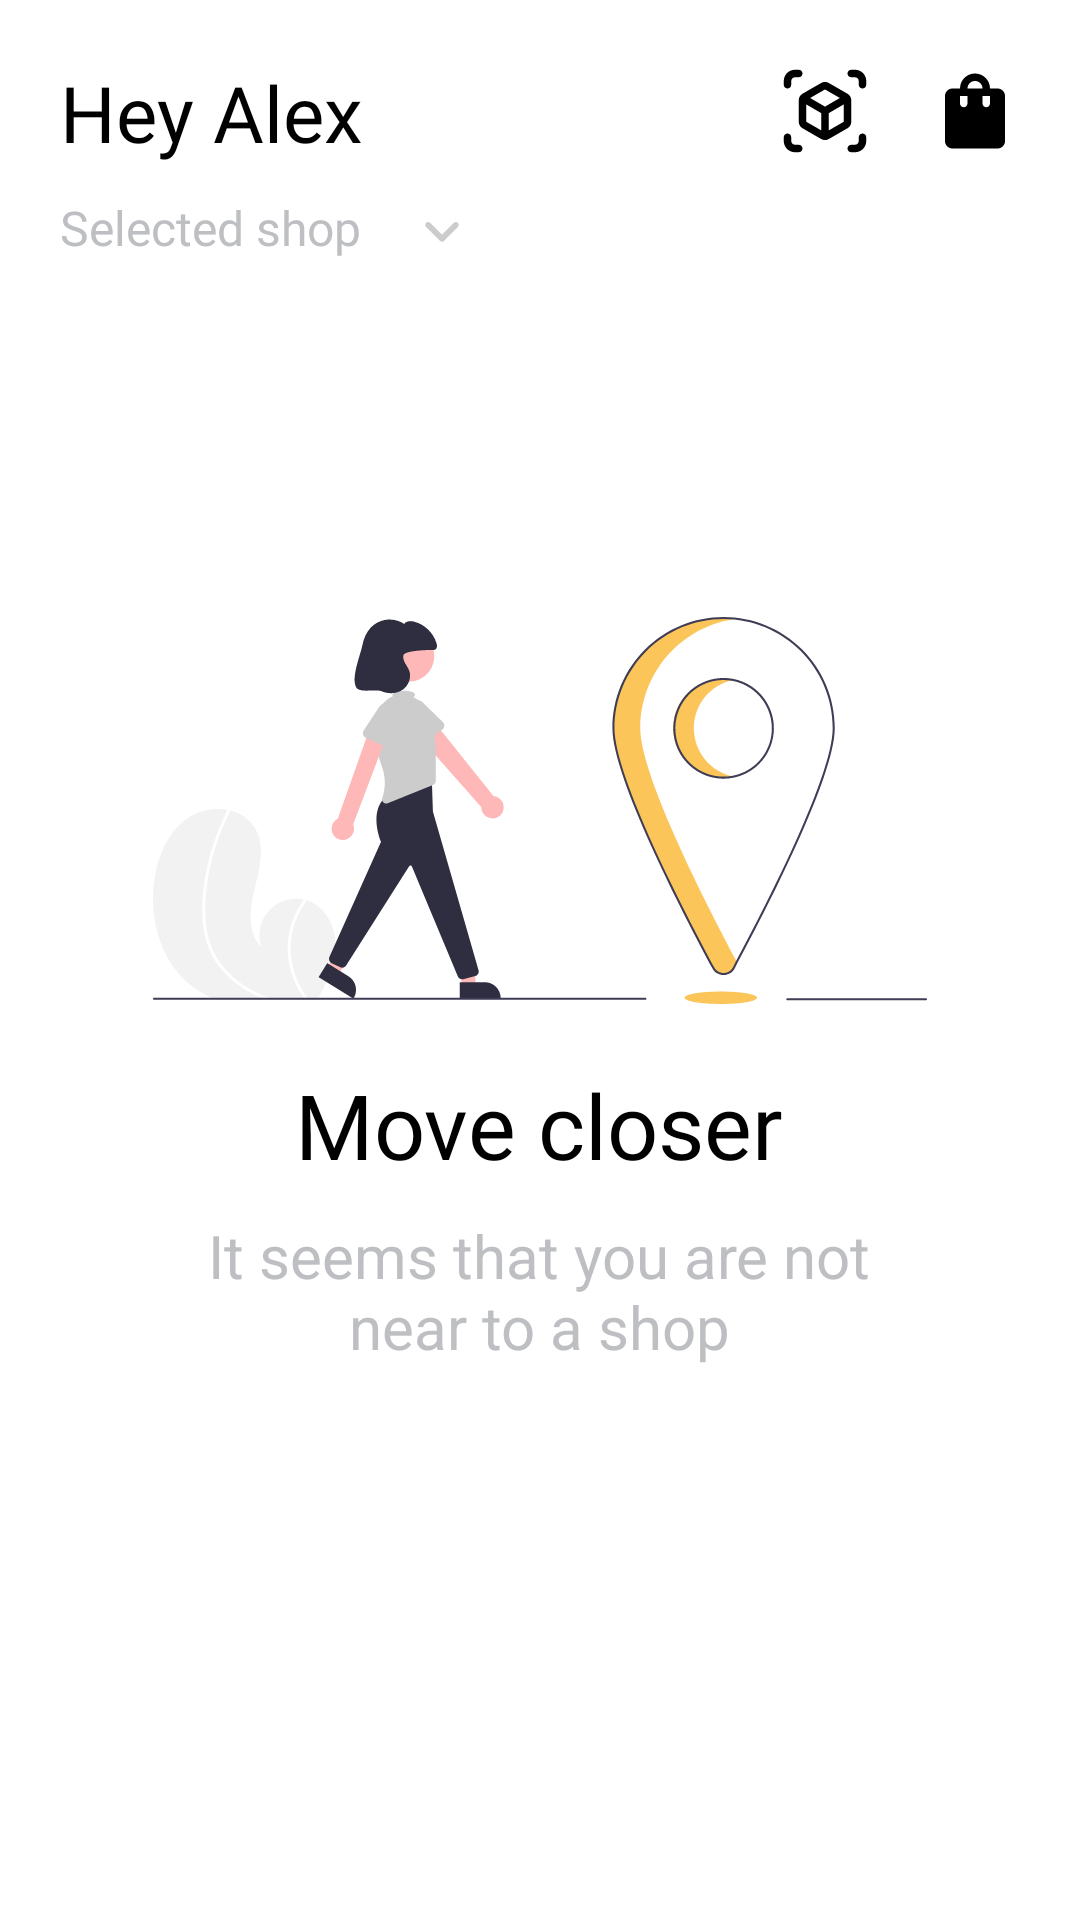

Icon click points for this 1080×1920 phone screenshot, format point (x, y):
shopping bag: point (975, 111)
view in ar: point (825, 111)
